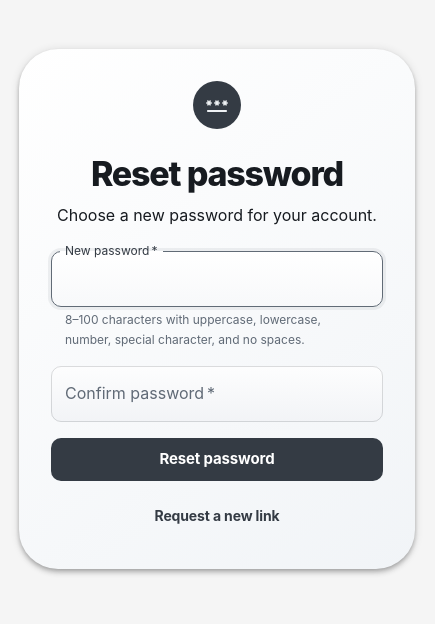
Test case: ResetPasswordPage › requires matching strong passwords
In the password field labelled "New password *": (217, 280) left=51, top=252, right=383, bottom=308, type "Strong@123"
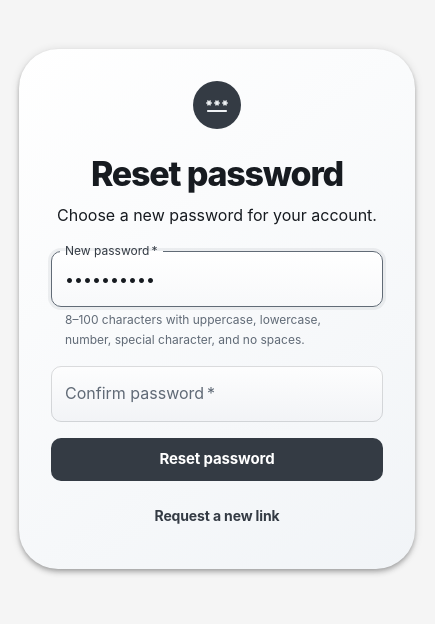
In the password field labelled "Confirm password *": (217, 394) left=51, top=366, right=383, bottom=422, type "Different@123"
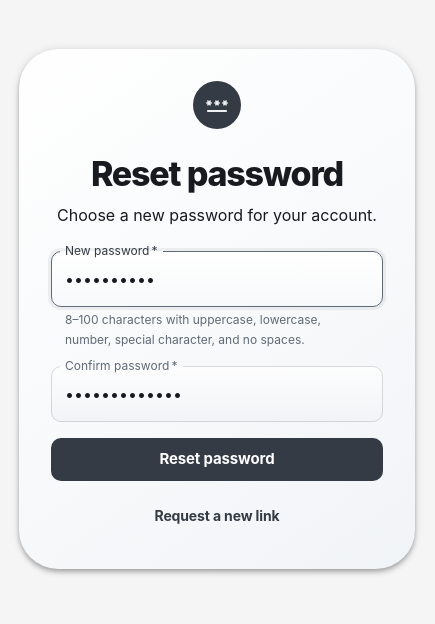
Click the button "Reset password": (217, 459) left=51, top=438, right=383, bottom=481
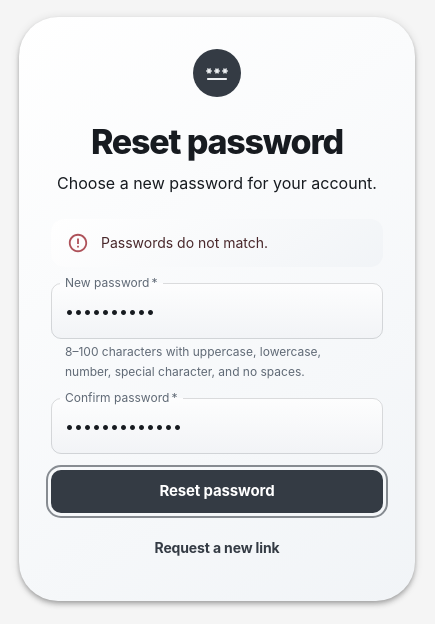
Check: the text "Passwords do not match." is shown, box left=101, top=234, right=268, bottom=252
